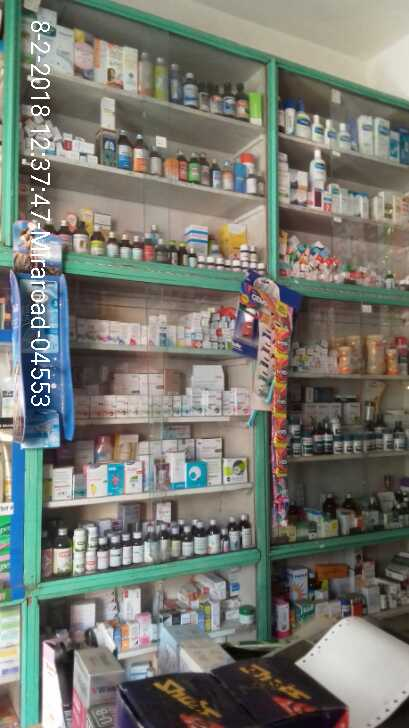venus: (20, 282, 59, 363)
